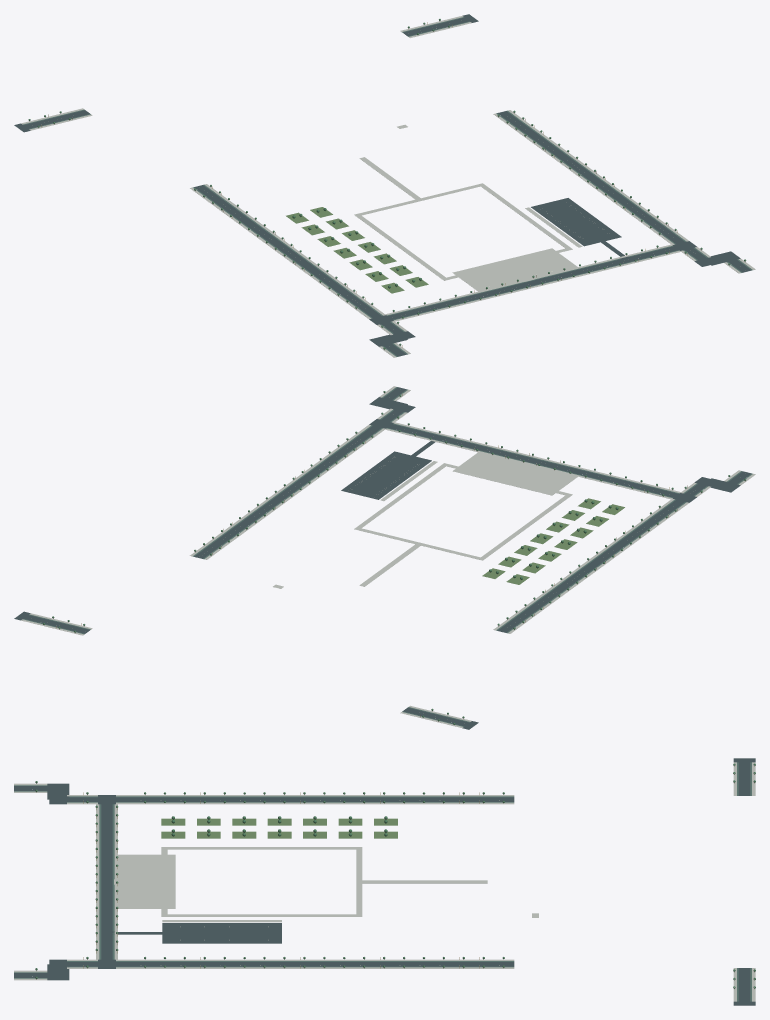
File: sports-streets.glb
3 views of the same model, one above another, from view 1: azimuth 30°, elevation 25°; view 2: azimuth 150°, elevation 25°; view 3: azimuth 270°, elevation 25° (orthographic). The views are drawn at different scales.
Parts seen in each view (by area): view 1: GC-SPORT-STREET-001; view 2: GC-SPORT-STREET-001; view 3: GC-SPORT-STREET-001.
Boxes of the visible parts, x1,y1,x2,y2 form: GC-SPORT-STREET-001: [14, 14, 755, 357]; GC-SPORT-STREET-001: [14, 386, 755, 729]; GC-SPORT-STREET-001: [14, 758, 755, 1005].
Bounding box in the file's own units: 1320 × 9.8 × 1676.
